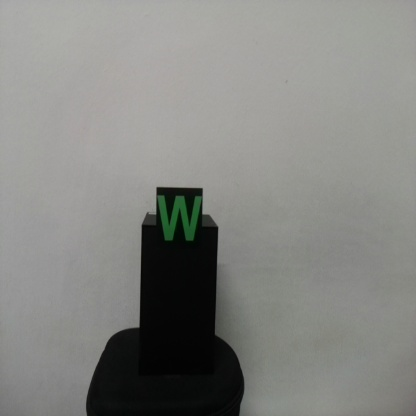id_12: (155, 187, 203, 252)
